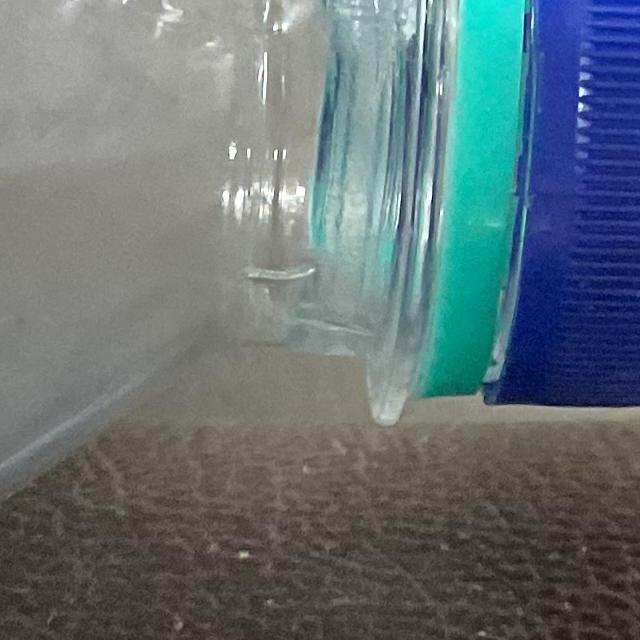Good-cap-Df0S: (407, 0, 640, 435)
